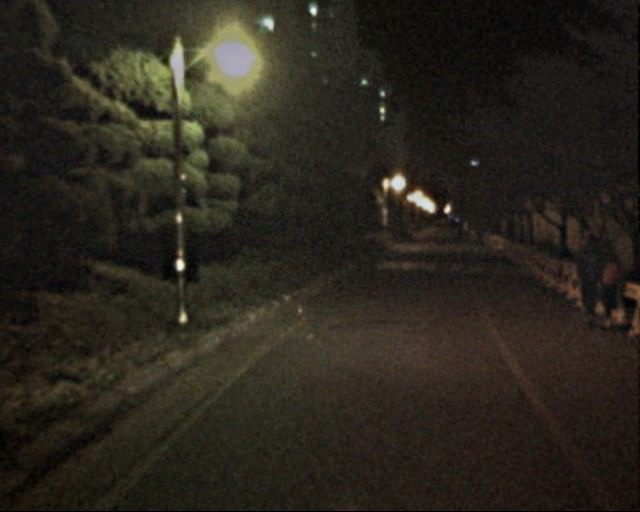person: (569, 236, 608, 330), (588, 241, 620, 320)
